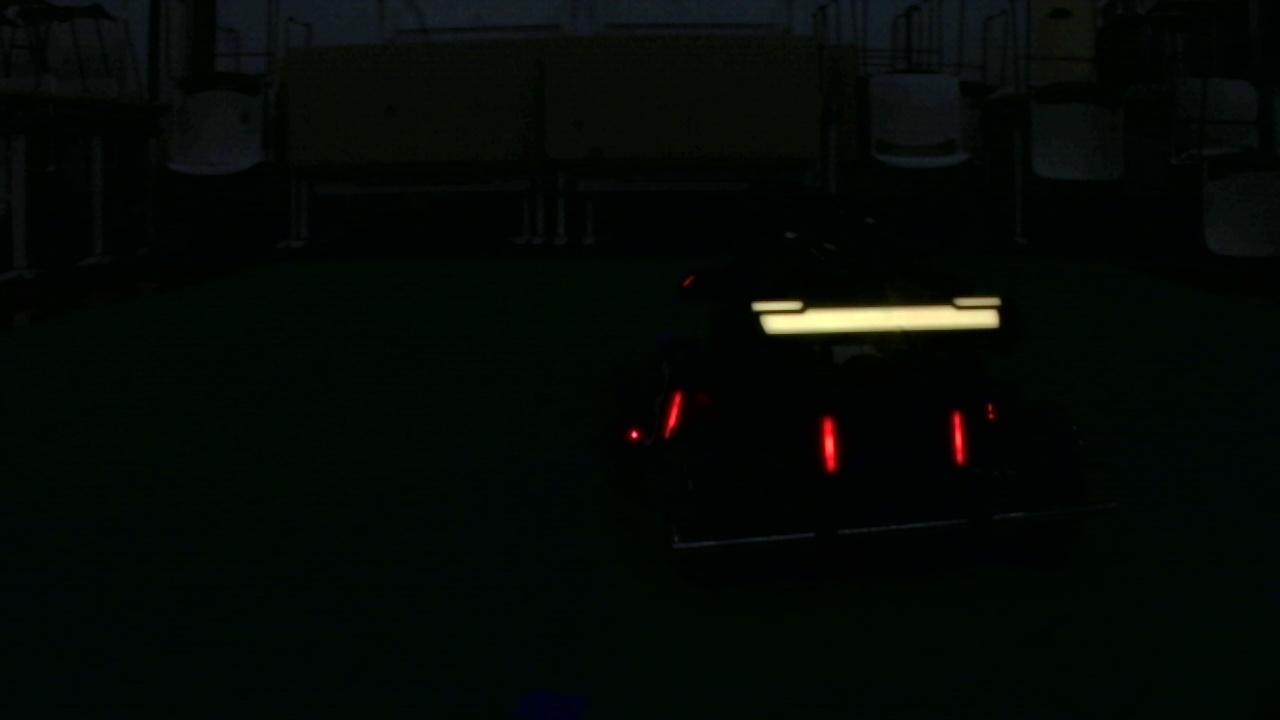lamp: (816, 408, 838, 470), (953, 411, 972, 466)
notpair1: (665, 387, 836, 475)
pair1: (820, 411, 967, 472)
